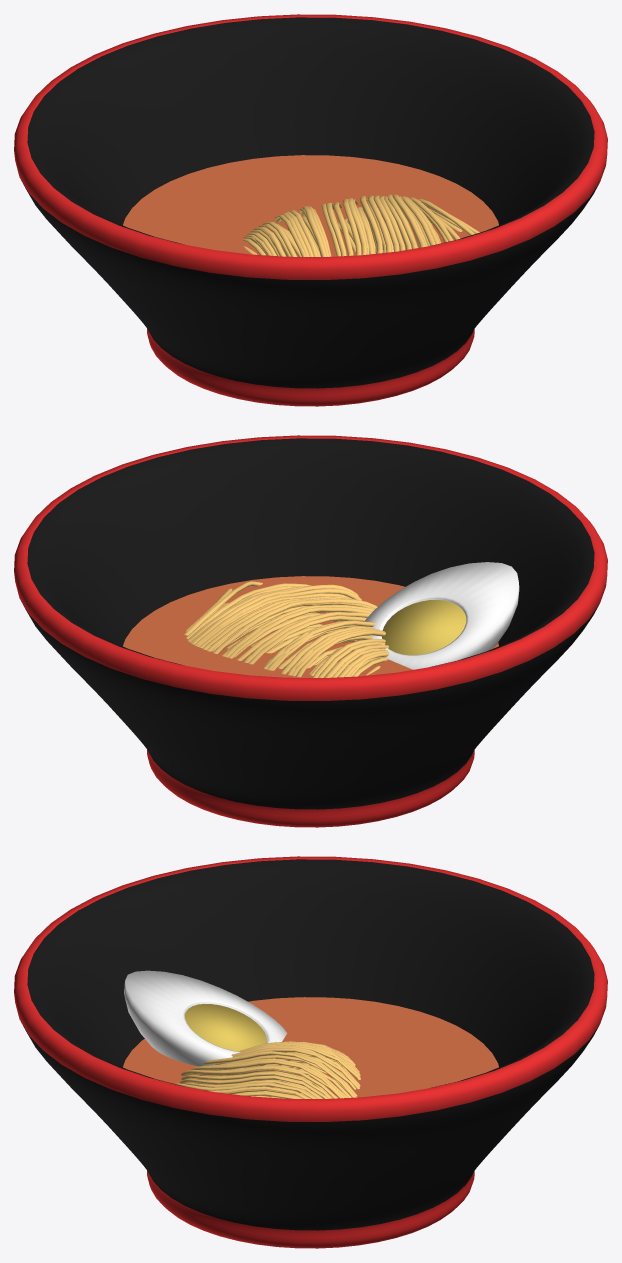
Rendered from RamenHalf.fbx.
3 views of the same model, one above another, from view 1: azimuth 30°, elevation 25°; view 2: azimuth 150°, elevation 25°; view 3: azimuth 270°, elevation 25° (orthographic).
Visible parts, largest first — view 1: Egg.002; view 2: Egg.002; view 3: Egg.002.
Boxes of the visible parts, x1,y1,x2,y2 form: Egg.002: (14,14,607,406); Egg.002: (14,435,607,827); Egg.002: (14,856,607,1248).
Bounding box in the file's own units: 20.22 × 7.87 × 20.22.
